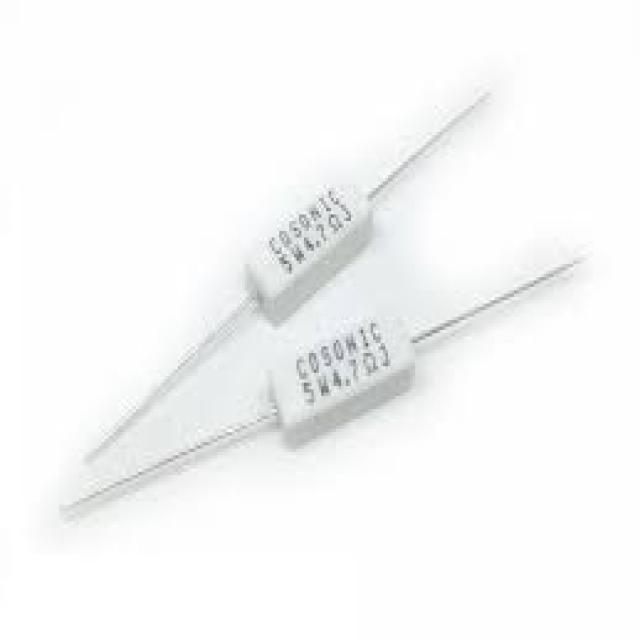Resistor: (268, 298, 418, 446), (242, 175, 377, 326)
